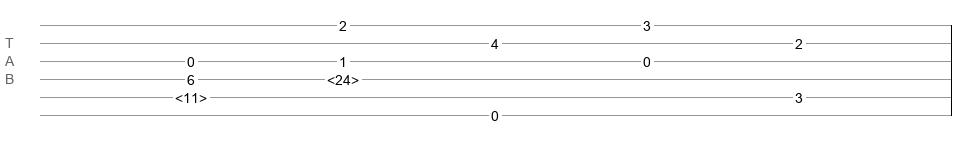0: (187, 54, 195, 64), (491, 108, 499, 118), (643, 54, 651, 64)
1: (339, 54, 347, 64)
2: (339, 18, 347, 28), (795, 36, 803, 46)
3: (643, 18, 651, 28), (795, 90, 803, 100)
4: (491, 36, 499, 46)
6: (187, 72, 195, 82)
harmonic: (175, 90, 207, 100), (327, 72, 359, 82)
